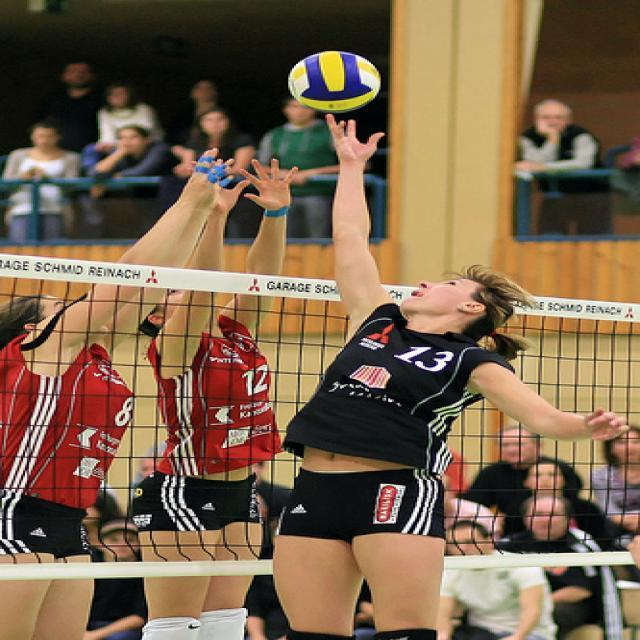volleyball: (288, 51, 381, 113)
